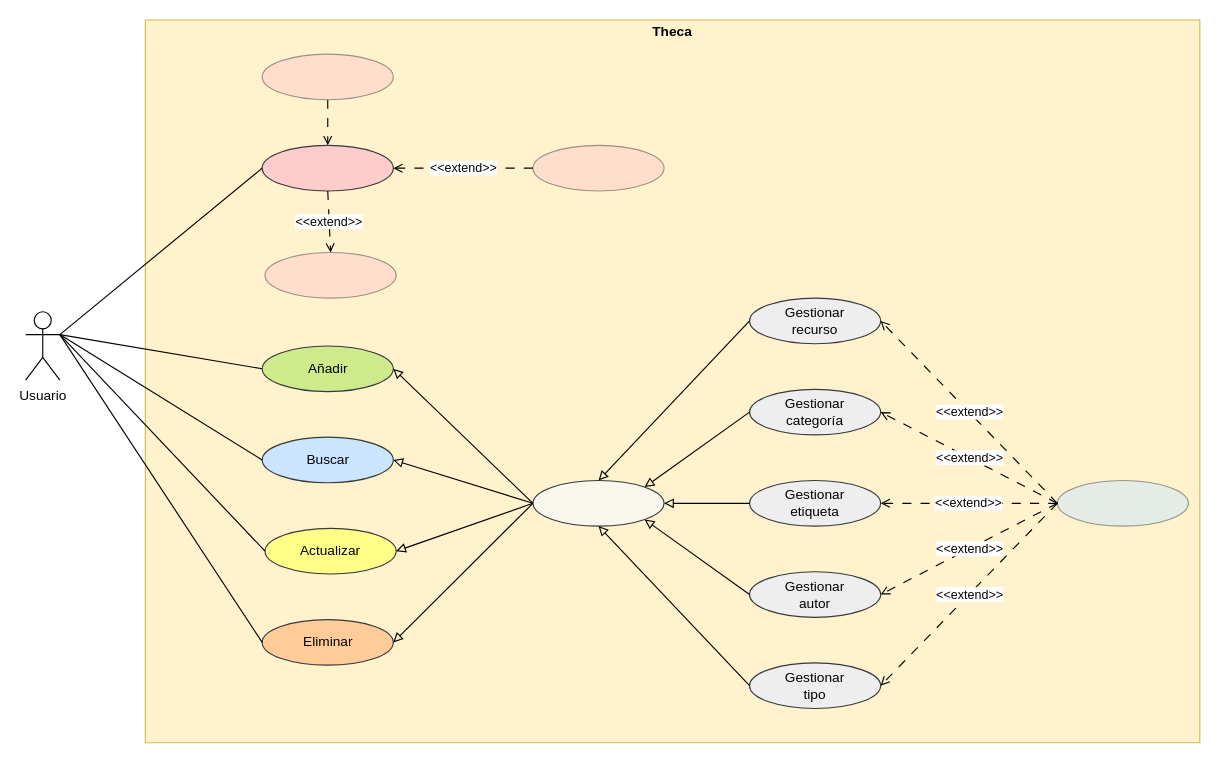
This 1220x763 diagram has some shape labels left out. The centre of each missing label's shape, as x and y in pixels:
Cambiar contraseña: the point at 598,167
Cerrar sesión: the point at 330,274
Gestionar entidad: the point at 598,502
Iniciar sesión: the point at 327,167
Registrarse: the point at 327,76
Ver detalle: the point at 1122,502
